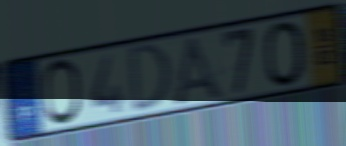4: (89, 52, 126, 116)
7: (221, 25, 256, 98)
A: (169, 33, 227, 106)
D: (128, 41, 174, 117)
O: (262, 19, 308, 89), (40, 57, 84, 128)
